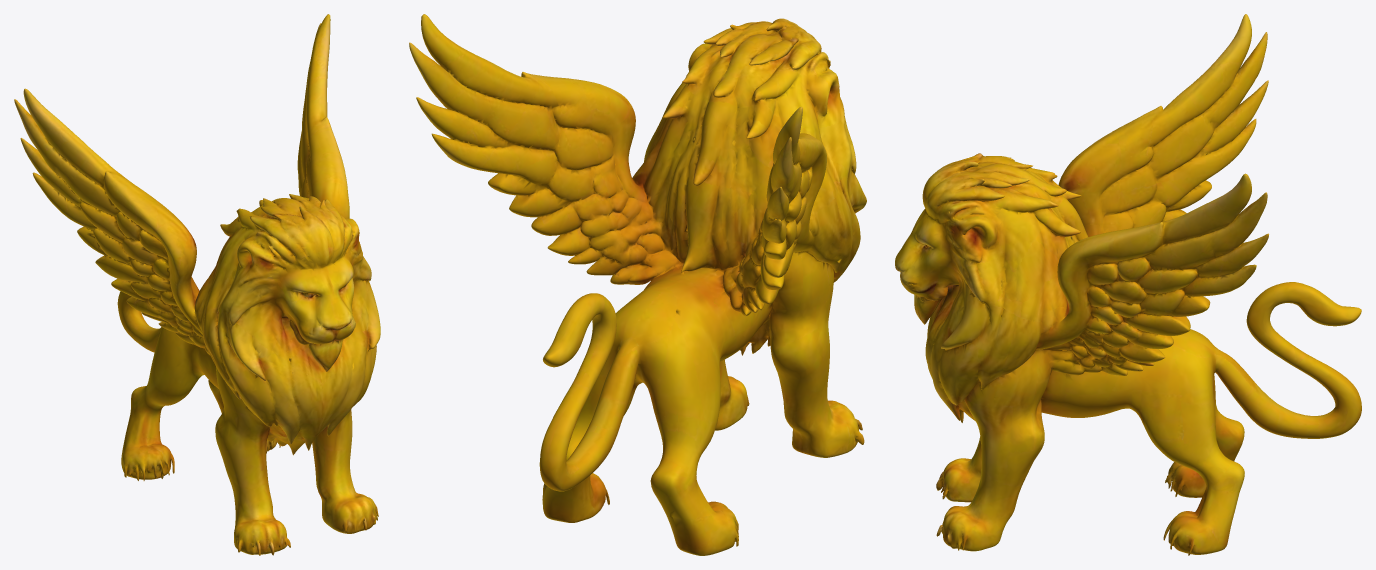
Rendered from majestic-winged-lion-gold-mobile.glb.
The picture shows the model from 3 angles, left to right: view 1: azimuth 30°, elevation 25°; view 2: azimuth 150°, elevation 25°; view 3: azimuth 270°, elevation 25°; orthographic projection. The views are drawn at different scales.
Size of the model in its own units: 1.65 by 2 by 2.
Materials: 1 (1 with a texture image).
